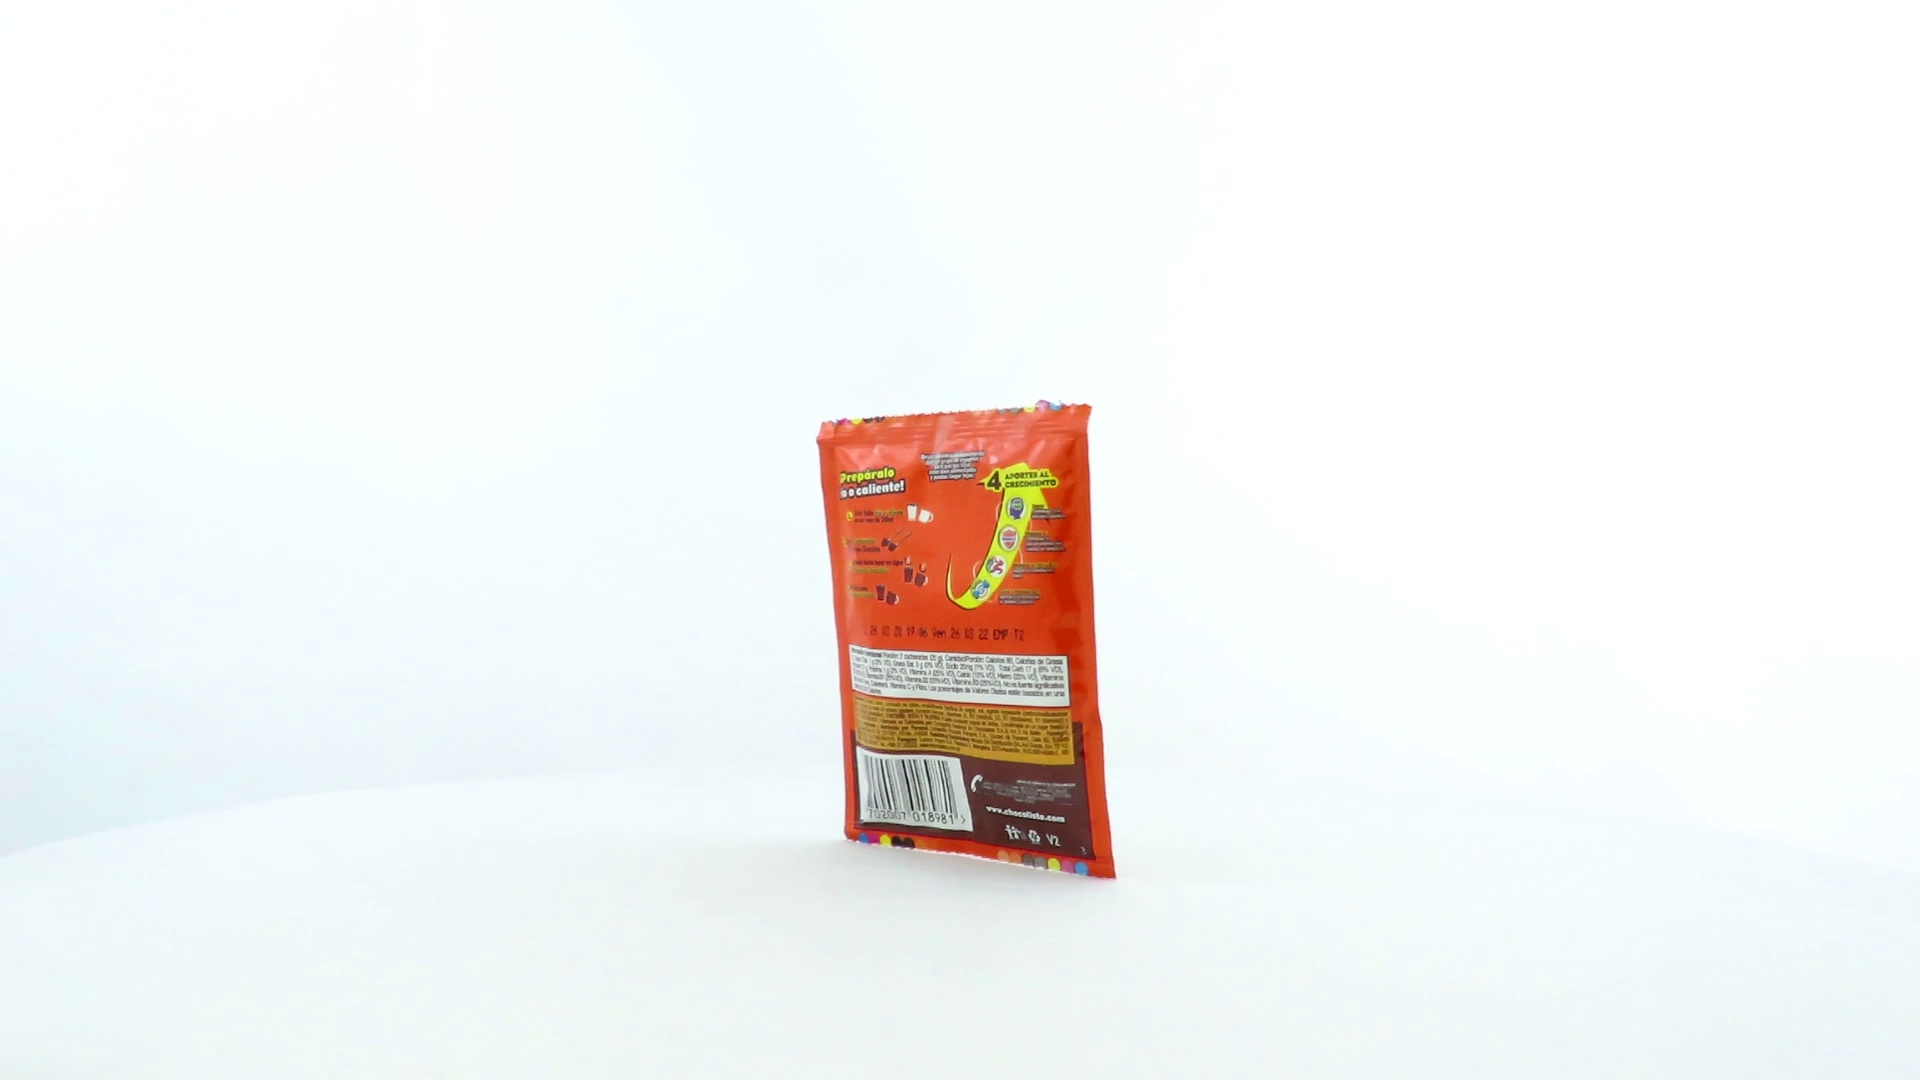COL0170103SOB02000: (811, 394, 1122, 886)
